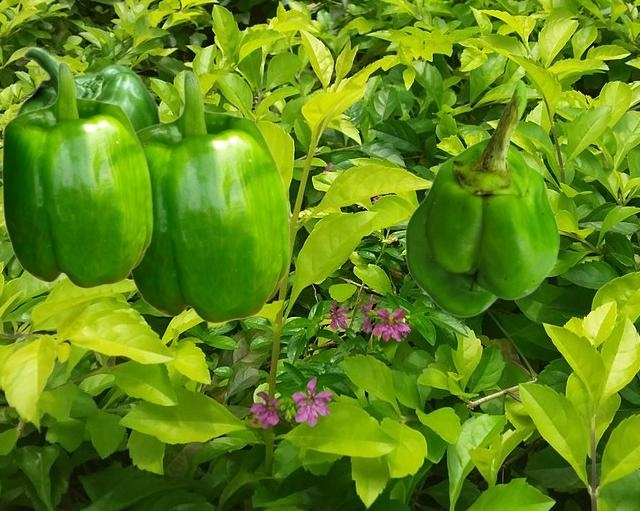bell_pepper: (131, 70, 289, 323), (404, 78, 559, 316), (1, 61, 152, 288), (13, 46, 162, 130)
